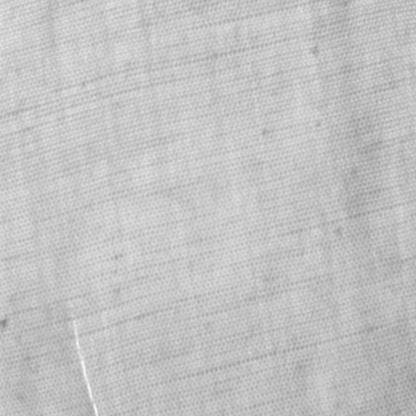hole: (68, 303, 103, 415)
